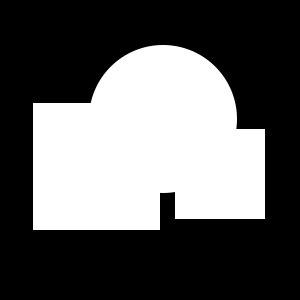circle: (33, 103, 160, 230), (175, 129, 265, 219)
rectangle: (89, 45, 237, 193)
